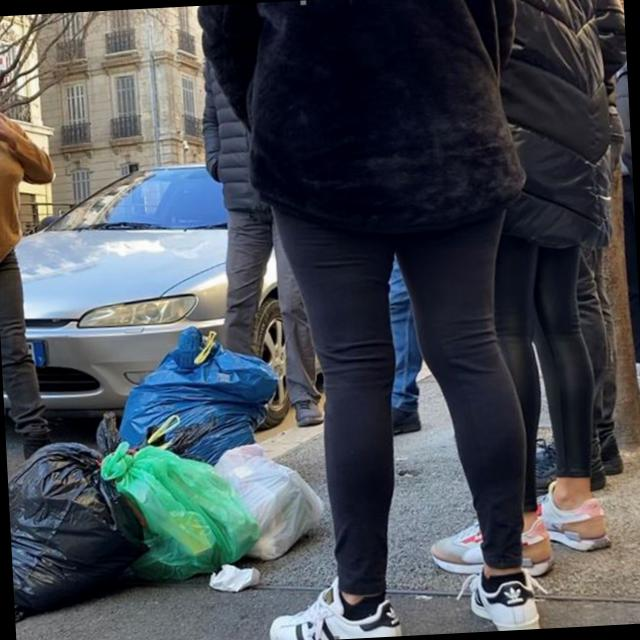garbage: (1, 340, 328, 616)
